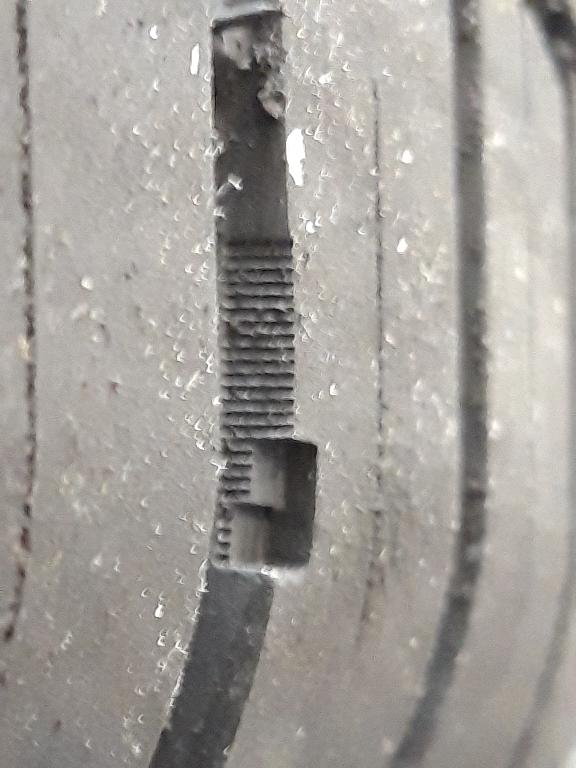temoin:50: (194, 368, 338, 605)
